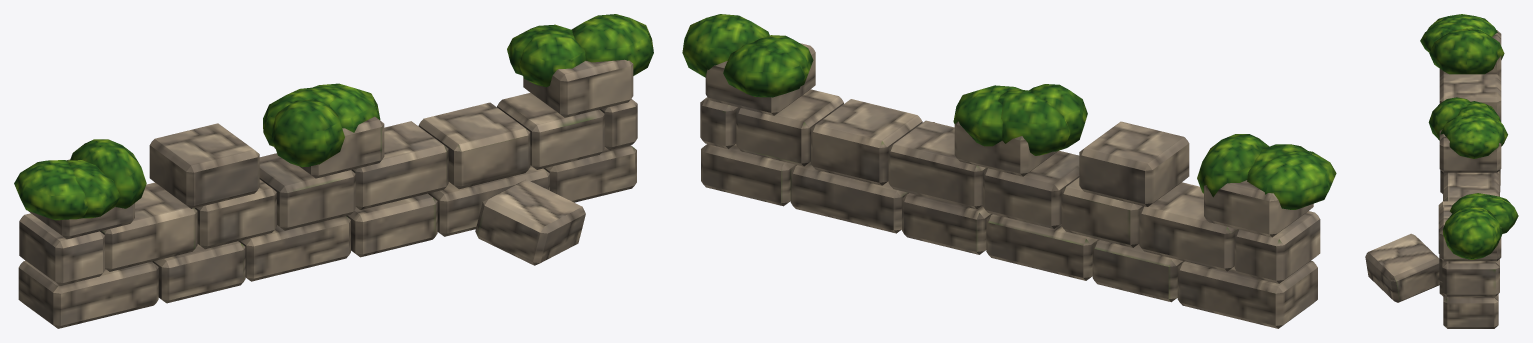
Rendered from mapkit_low_forest.fbx.
3 renders of one model, left to right at view 1: azimuth 30°, elevation 25°; view 2: azimuth 150°, elevation 25°; view 3: azimuth 270°, elevation 25°, orthographic. The views are drawn at different scales.
Visible parts, largest first — view 1: Body; view 2: Body; view 3: Body.
Boxes of the visible parts, x1,y1,x2,y2 form: Body: (14,14,653,328); Body: (682,14,1336,328); Body: (1365,14,1518,328).
Size of the model in its own units: 1307 by 331 by 373.
Materials: 1 (1 with a texture image).
